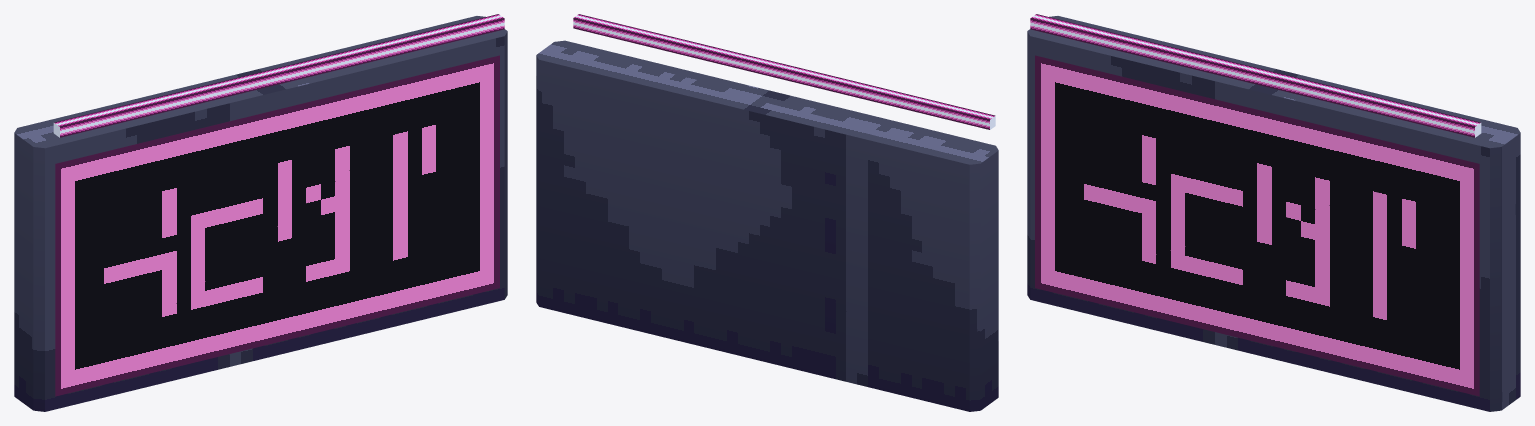
The model's file is cysign.frame__magenta.glb.
3 renders of one model, left to right at view 1: azimuth 30°, elevation 25°; view 2: azimuth 150°, elevation 25°; view 3: azimuth 330°, elevation 25°, orthographic. The views are drawn at different scales.
Parts seen in each view (by area): view 1: kit_card_face, kit_box, kit_neon; view 2: kit_box, kit_neon; view 3: kit_card_face, kit_box, kit_neon.
Boxes of the visible parts, x1,y1,x2,y2 form: kit_card_face: (55,55,499,396); kit_box: (14,16,507,411); kit_neon: (53,14,504,137); kit_box: (536,40,998,411); kit_neon: (573,14,995,129); kit_card_face: (1035,55,1479,396); kit_box: (1027,16,1520,411); kit_neon: (1030,14,1481,137).
Size of the model in its own units: 2.56 by 1.49 by 0.3283.
Materials: 3 (3 with a texture image).
